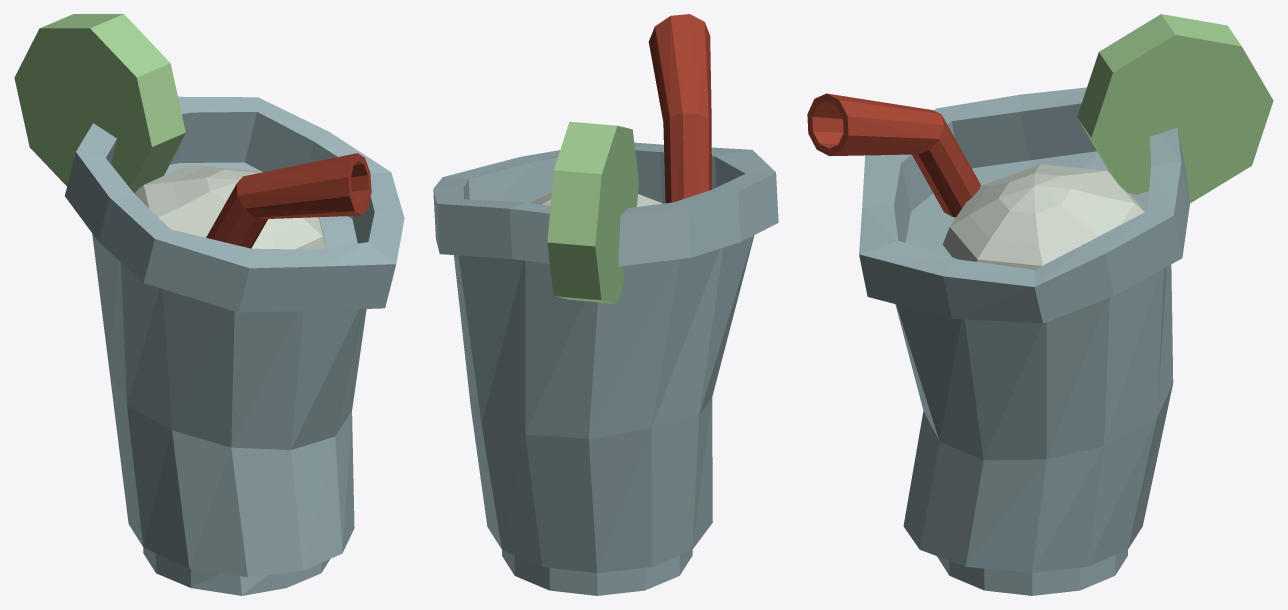
The model's file is vasotejuino.fbx.
3 renders of one model, left to right at view 1: azimuth 30°, elevation 25°; view 2: azimuth 150°, elevation 25°; view 3: azimuth 270°, elevation 25°, orthographic.
Visible parts, largest first — view 1: Tejuino1; view 2: Tejuino1; view 3: Tejuino1.
Part boxes in pixels (x1,y1,x2,y2): Tejuino1: (14,14,404,595); Tejuino1: (433,14,778,595); Tejuino1: (807,14,1273,595).
Size of the model in its own units: 4.83 by 7.77 by 6.57.
